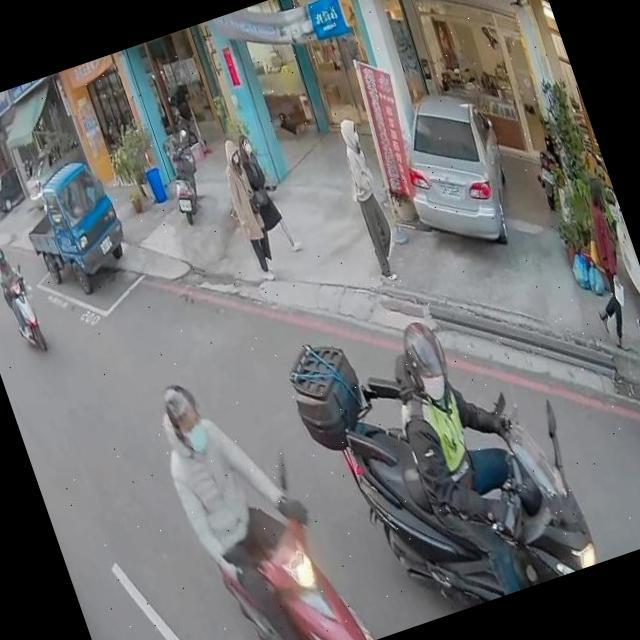person: (368, 293, 576, 609), (143, 350, 353, 640), (544, 166, 640, 360), (325, 111, 412, 282), (212, 124, 304, 270), (212, 136, 288, 282), (0, 237, 45, 346)
